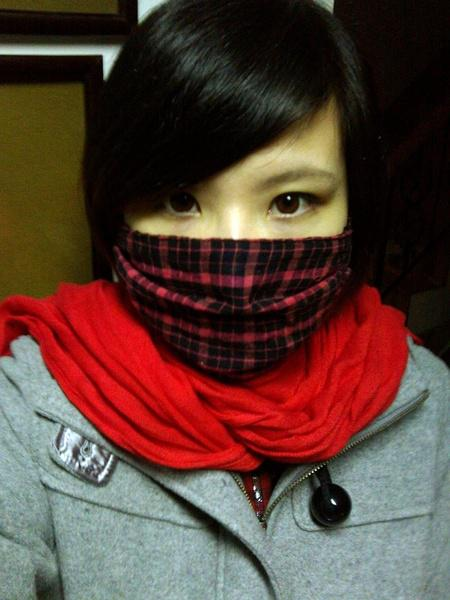OK: (124, 157, 338, 371)
